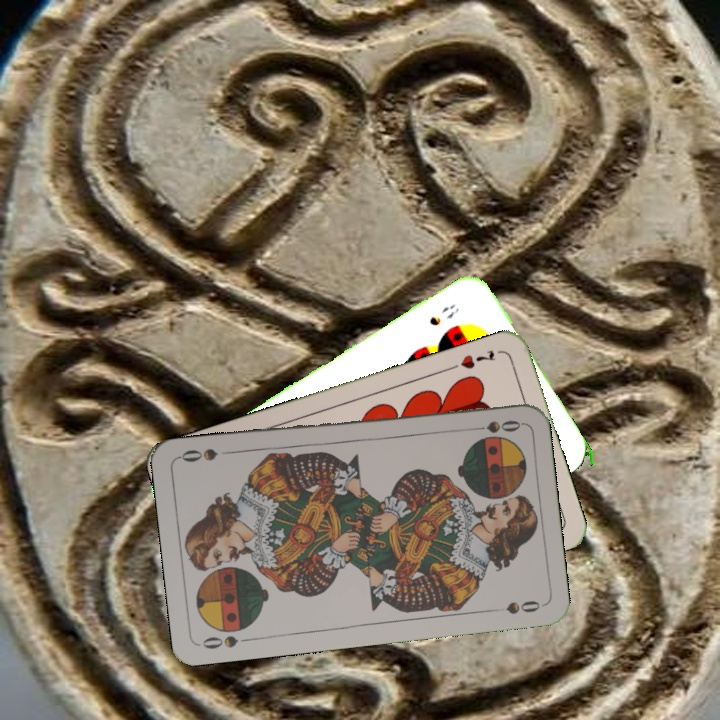H7: (445, 346, 497, 373)
S8: (425, 299, 462, 329)
SO: (198, 631, 256, 652), (464, 416, 523, 436)
